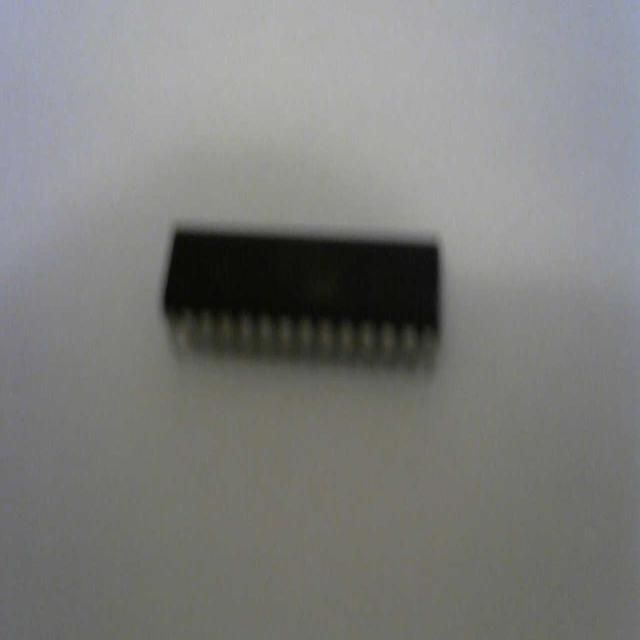atmega: (160, 219, 444, 377)
